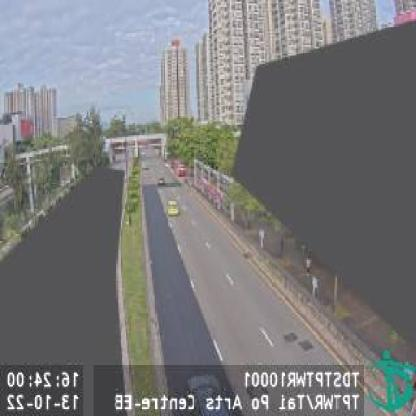Car: (165, 198, 178, 216)
